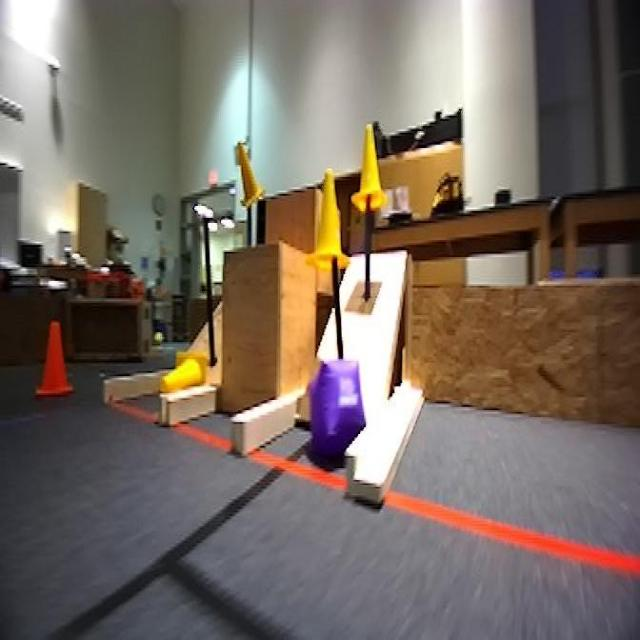frc_cone: (312, 167, 350, 265), (356, 133, 390, 213), (160, 344, 210, 398), (234, 138, 264, 211)
frc_cube: (298, 362, 355, 450)
